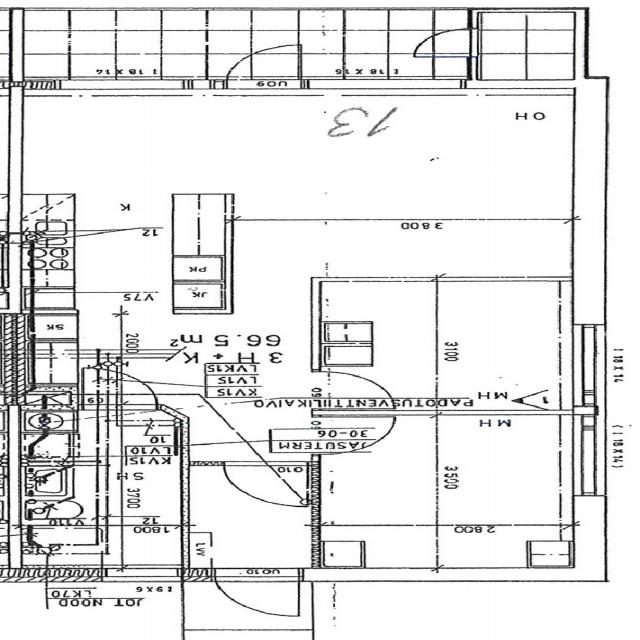door: (210, 557, 292, 611), (220, 453, 302, 497), (222, 42, 294, 88), (305, 409, 390, 446), (80, 360, 153, 402), (305, 364, 387, 400), (403, 27, 471, 56)
